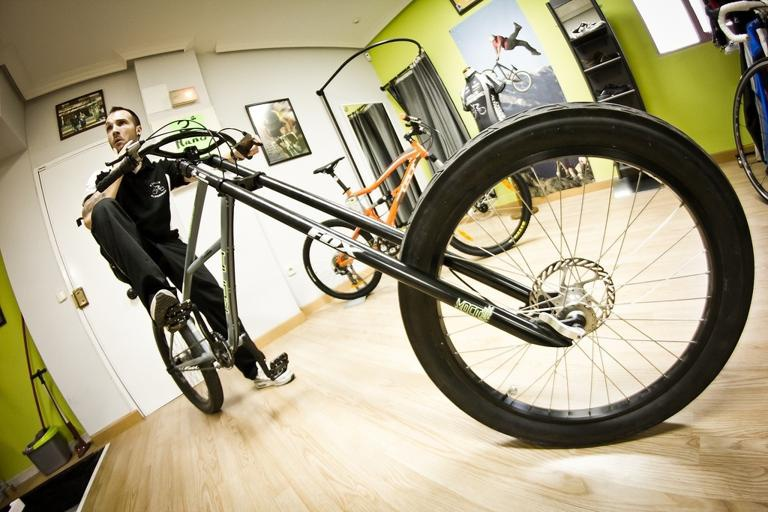non-vehicle: (74, 123, 756, 453), (301, 109, 537, 305), (716, 0, 766, 210), (482, 52, 537, 99)
